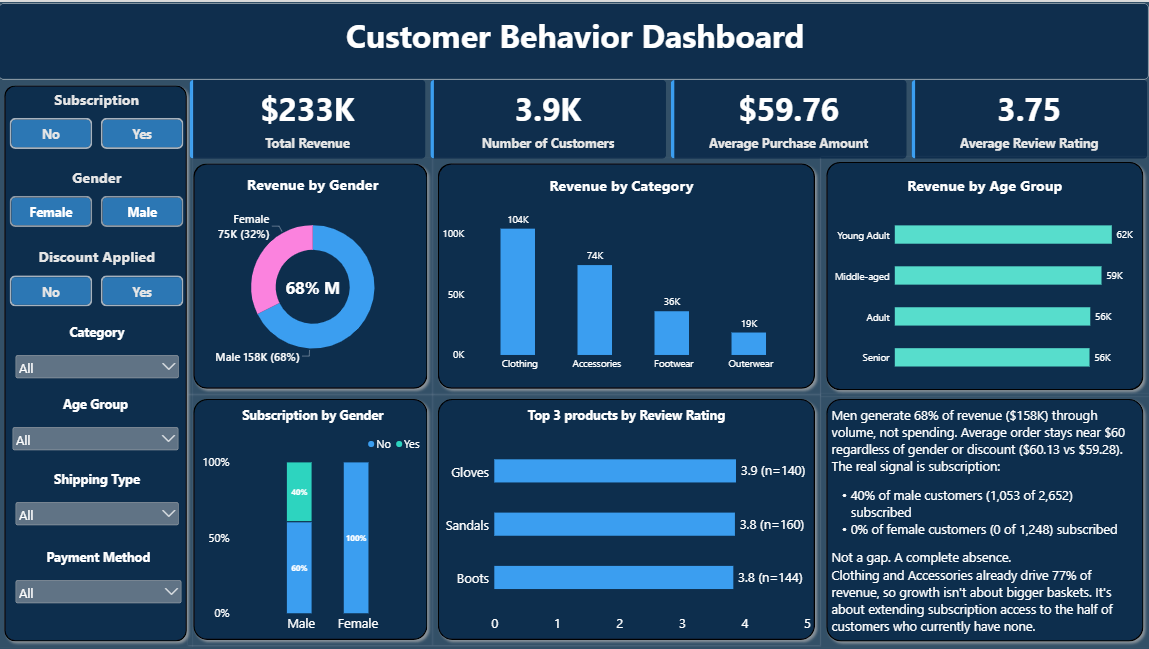

The dashboard page shown, as its layout file describes it:
{"tool":"powerbi","page":{"name":"Page 1","canvas":[1920,1080],"ordinal":0},"visuals":[{"type":"cardVisual","fields":{"Data":["customer_behavior.Total Revenue","customer_behavior.Number of Customers","customer_behavior.Average Purchase Amount","customer_behavior.Average Review Rating"]},"box":[317.3,128.8,1598.6,131.2],"z":0},{"type":"shape","box":[0,2.4,1915.9,126.5],"z":1000},{"type":"textbox","box":[0,19.1,1920.7,83.5],"z":2000},{"type":"shape","box":[314.9,260.1,408,393.7],"z":3000},{"type":"donutChart","title":"Revenue by Gender","fields":{"Category":["customer_behavior.gender"],"Y":["Sum(customer_behavior.purchase_amount)"]},"box":[322.1,272,400.8,362.7],"z":4000},{"type":"shape","box":[722.9,260.1,646.6,393.7],"z":5000},{"type":"shape","box":[1369.5,257.7,546.4,398.4],"z":6000},{"type":"shape","box":[1369.5,653.7,546.4,422.3],"z":7000},{"type":"clusteredBarChart","title":"Revenue by Age Group","fields":{"Category":["customer_behavior.age_group"],"Y":["Sum(customer_behavior.purchase_amount)"]},"box":[1369.5,274.4,546.4,379.4],"z":8000},{"type":"clusteredColumnChart","title":"Revenue by Category","fields":{"Category":["customer_behavior.category"],"Y":["Sum(customer_behavior.purchase_amount)"]},"box":[722.9,274.4,629.9,360.3],"z":9000},{"type":"shape","box":[314.9,653.7,408,419.9],"z":10000},{"type":"shape","box":[0,128.8,322.1,944.8],"z":11000},{"type":"advancedSlicerVisual","title":"Gender","fields":{"Values":["customer_behavior.gender"]},"box":[16.7,274.4,291.1,100],"z":12000},{"type":"advancedSlicerVisual","title":"Subscription","fields":{"Values":["customer_behavior.subscription_status"]},"box":[16.7,145.5,291.1,100],"z":13000},{"type":"slicer","title":"Category","fields":{"Values":["customer_behavior.category"]},"box":[21.5,534.4,281.5,100.2],"z":14000},{"type":"slicer","title":"Shipping Type","fields":{"Values":["customer_behavior.shipping_type"]},"box":[21.5,780.2,281.5,93.1],"z":15000},{"type":"shape","box":[722.9,653.7,646.6,419.9],"z":16000},{"type":"barChart","title":"Top 3 products by Review Rating","fields":{"Category":["customer_behavior.item_purchased"],"Y":["Avg(customer_behavior.review_rating)"]},"box":[722.9,660.9,646.6,412.8],"z":17000},{"type":"hundredPercentStackedColumnChart","title":"Subscription by Gender ","fields":{"Category":["customer_behavior.gender"],"Series":["customer_behavior.subscription_status"],"Y":["CountNonNull(customer_behavior.customer_id)"]},"box":[322.1,660.9,400.8,412.8],"z":18000},{"type":"textbox","box":[1388.6,672.8,505.8,400.8],"z":19000},{"type":"advancedSlicerVisual","title":"Discount Applied","fields":{"Values":["customer_behavior.discount_applied"]},"box":[16.7,408,291.1,100],"z":20000},{"type":"slicer","title":"Age Group","fields":{"Values":["customer_behavior.age_group"]},"box":[16.7,656.1,286.3,97.8],"z":21000},{"type":"slicer","title":"Payment Method","fields":{"Values":["customer_behavior.payment_method"]},"box":[21.5,909,286.3,95.4],"z":22000}]}

Visuals, with their boxes in screenshot pixels (x1, y1, x2, y2), scaled from the page's 1920x1080 canvas onto the 1149x649 screenshot:
cardVisual - customer_behavior.Total Revenue x customer_behavior.Number of Customers: 190 77 1147 156
shape: 0 1 1147 77
textbox: 0 11 1148 62
shape: 188 156 433 393
"Revenue by Gender" donutChart: 193 163 433 381
shape: 433 156 820 393
shape: 820 155 1147 394
shape: 820 393 1147 647
"Revenue by Age Group" clusteredBarChart: 820 165 1147 393
"Revenue by Category" clusteredColumnChart: 433 165 810 381
shape: 188 393 433 645
shape: 0 77 193 645
"Gender" advancedSlicerVisual: 10 165 184 225
"Subscription" advancedSlicerVisual: 10 87 184 148
"Category" slicer: 13 321 181 381
"Shipping Type" slicer: 13 469 181 525
shape: 433 393 820 645
"Top 3 products by Review Rating" barChart: 433 397 820 645
"Subscription by Gender " hundredPercentStackedColumnChart: 193 397 433 645
textbox: 831 404 1134 645
"Discount Applied" advancedSlicerVisual: 10 245 184 305
"Age Group" slicer: 10 394 181 453
"Payment Method" slicer: 13 546 184 604
